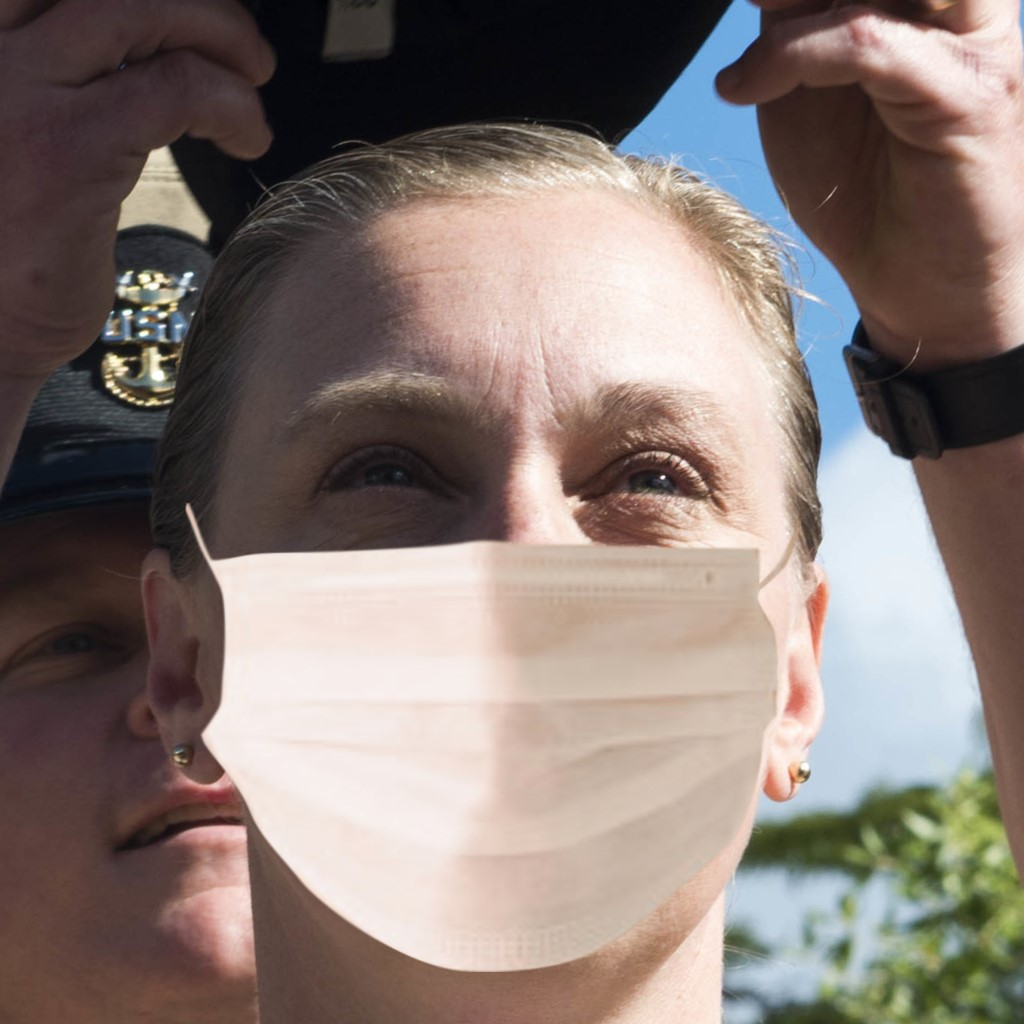con_mascara: (218, 234, 796, 974)
